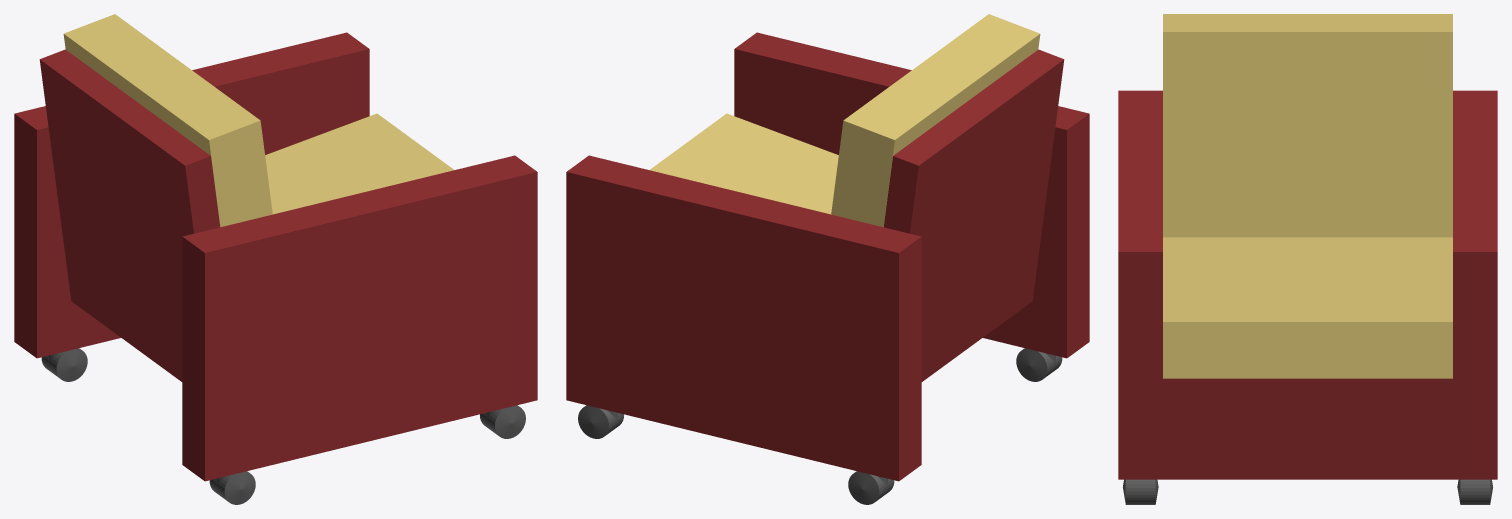
The picture shows the model from 3 angles, left to right: view 1: azimuth 30°, elevation 25°; view 2: azimuth 150°, elevation 25°; view 3: azimuth 270°, elevation 25°; orthographic projection.
Visible parts, largest first — view 1: Cube; view 2: Cube; view 3: Cube.
Boxes of the visible parts, box(x1,y1,x2,y2) form: Cube: box(14, 14, 537, 504); Cube: box(566, 14, 1089, 504); Cube: box(1118, 14, 1497, 504).
Size of the model in its own units: 0.667 by 0.635 by 0.6634.
